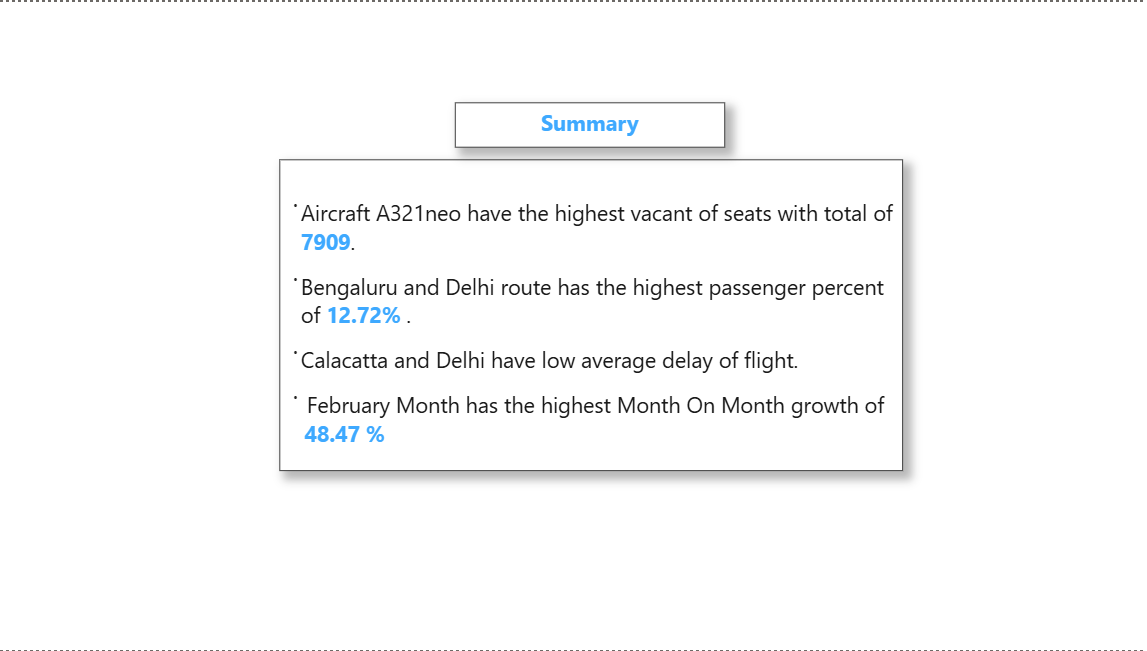

The page's visual inventory and layout, read from the dashboard file:
{"tool":"powerbi","page":{"name":"Summary","canvas":[1280,720],"ordinal":3},"visuals":[{"type":"textbox","box":[314.7,175.6,692.4,346.2],"z":0},{"type":"textbox","box":[510.2,111,299.8,49.7],"z":1000}]}

Visuals, with their boxes in screenshot pixels (x1, y1, x2, y2), scaled from the page's 1280x720 canvas onto the 1147x651 screenshot:
textbox: detection(282, 159, 902, 472)
textbox: detection(457, 100, 726, 145)
